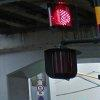traffic lights: (48, 3, 74, 32)
